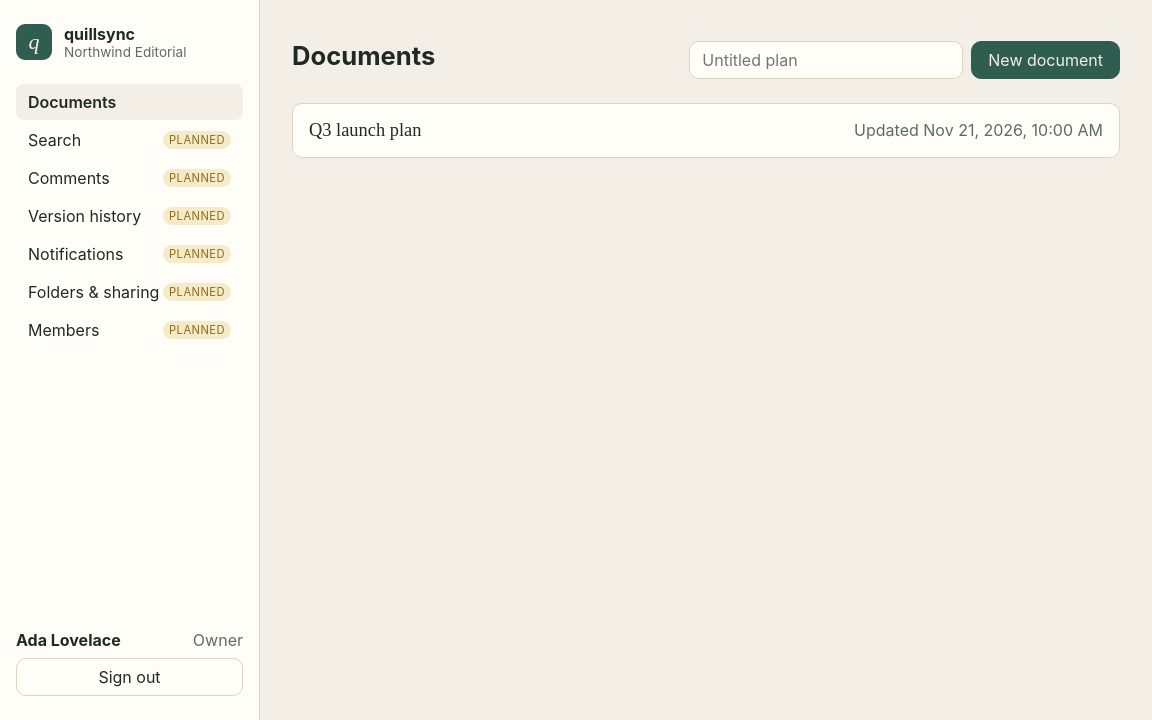
Test: documents page › lists documents and creates a new one
Expected: the text "Q3 launch plan" is shown, [309,120,421,141]
In the field named "New document title": [826, 60] box [689,41,963,79], type "New"
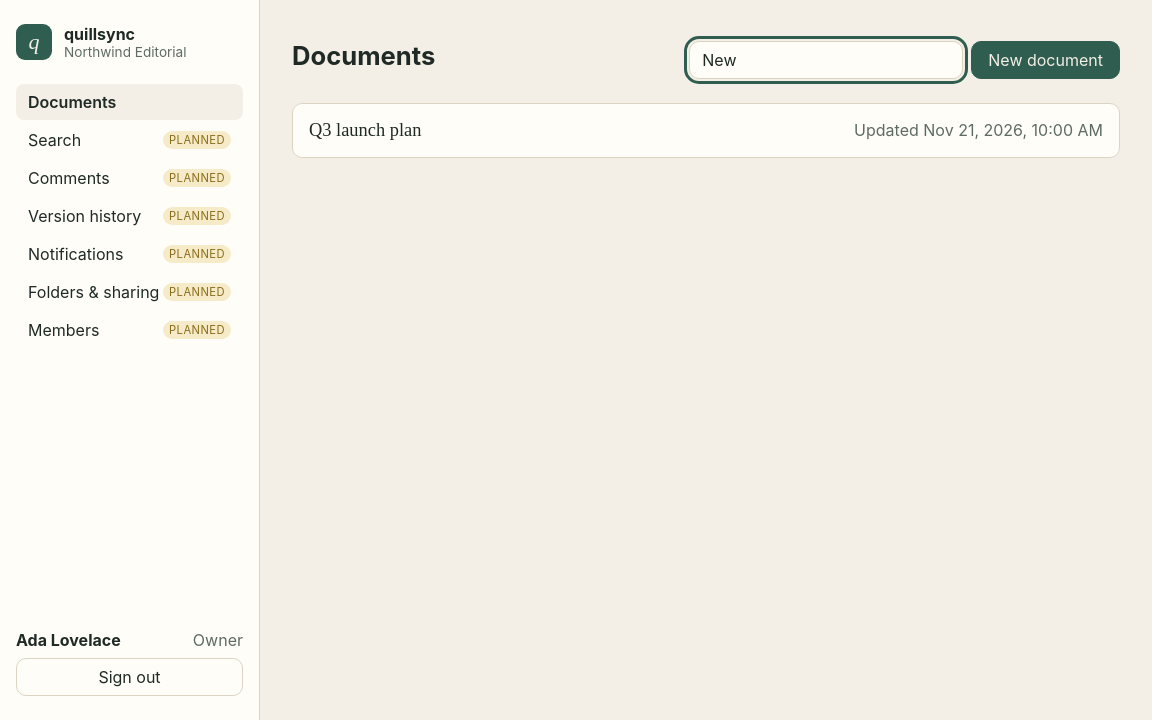
Click the button "New document": [1046, 60] box [971,41,1120,79]
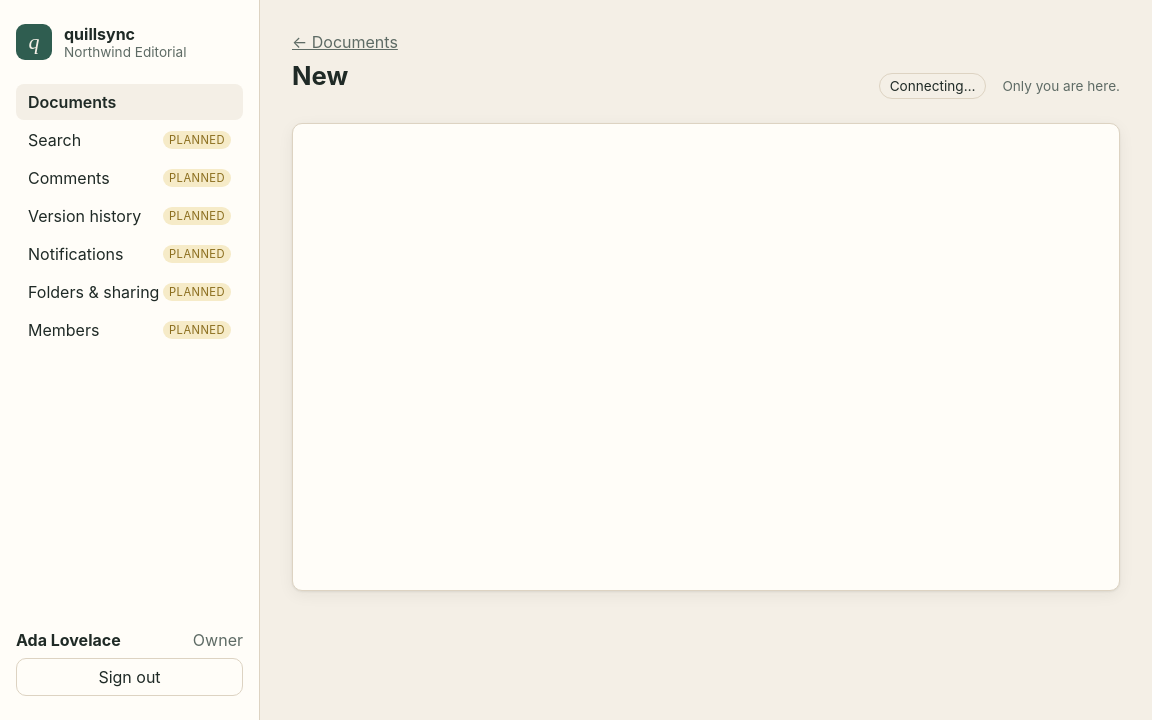
Expected: the heading "New" is shown, [292,60,348,91]
